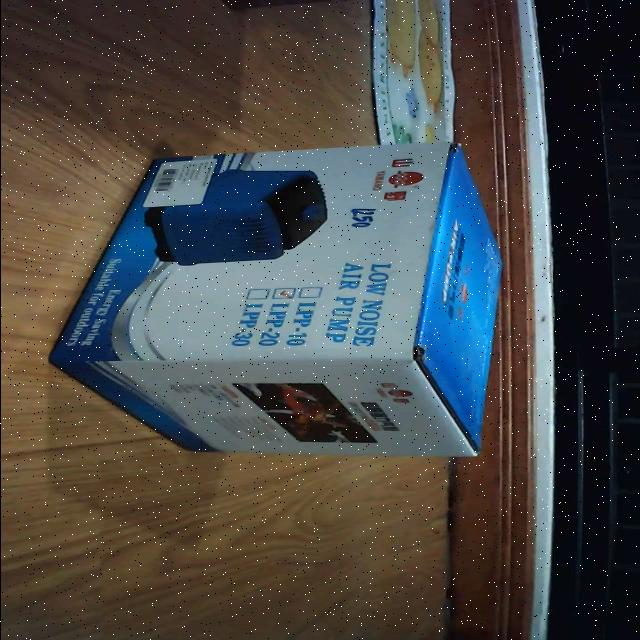YAMANO_LPP_20: (42, 133, 516, 471)
